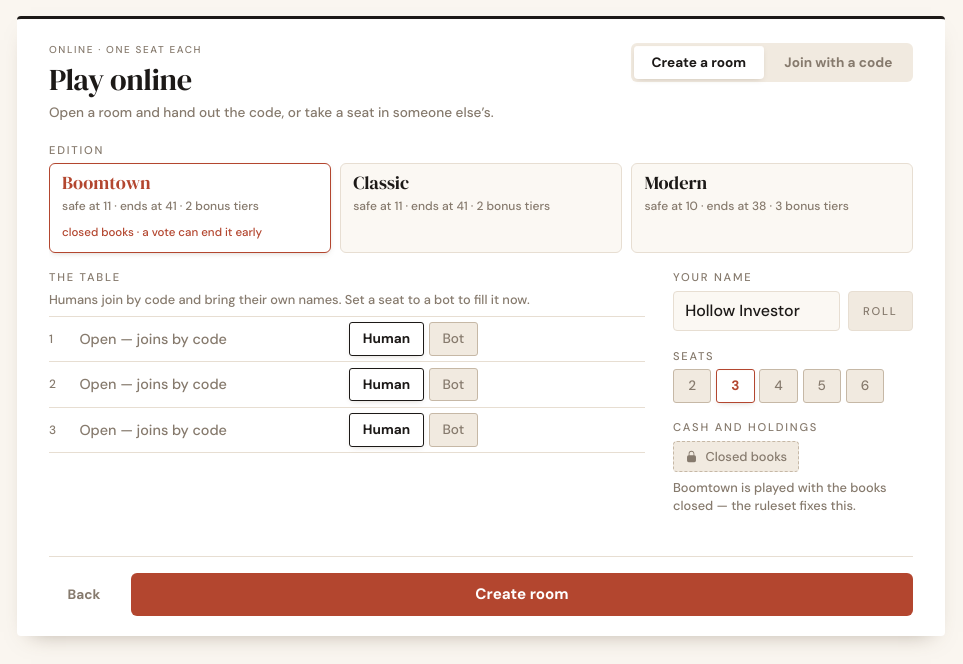
Scenario: CreateJoin › refuses to open an all-bot room, and says why before the button is pressed
Click the 1st radio button labelled "Bot" at (453, 339), box [429,322,478,356]
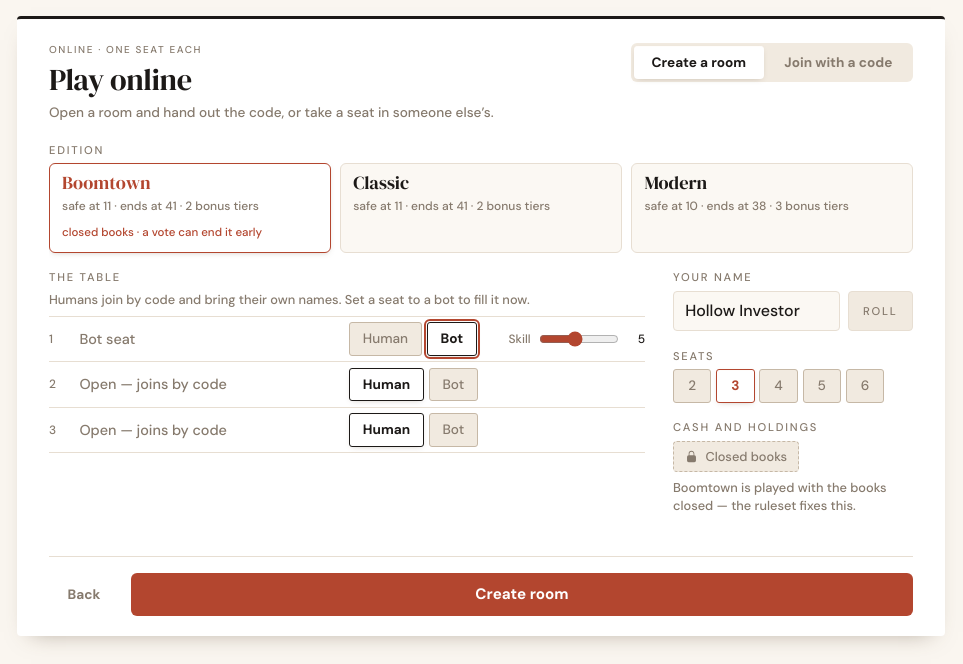
Click the 2nd radio button labelled "Bot" at (453, 384), box [429,368,478,401]
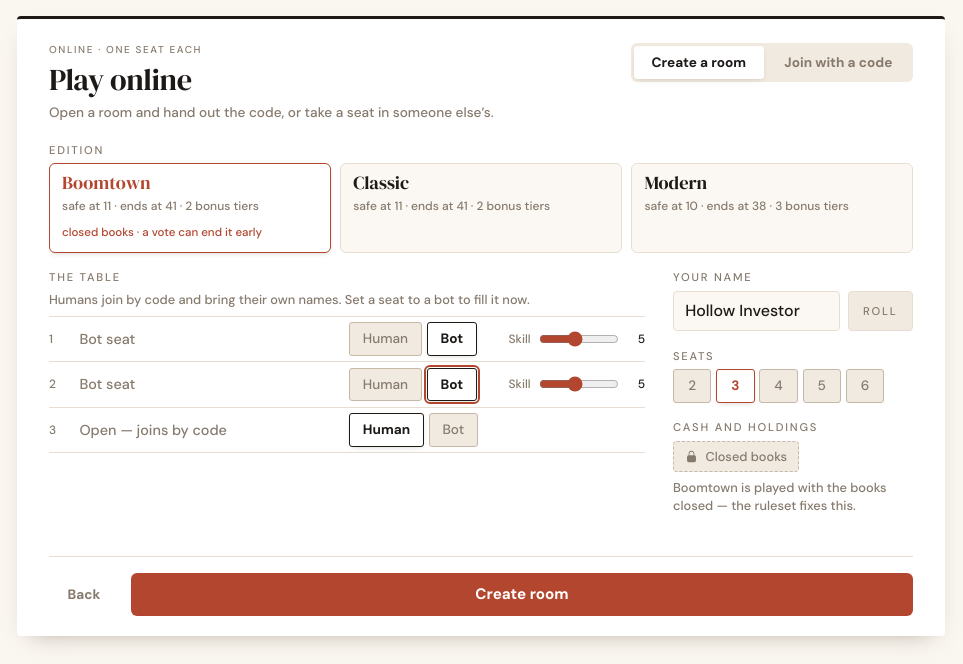
Click the radio button labelled "Bot" in the row of "Open — joins by code" at (453, 430), box [429,413,478,447]
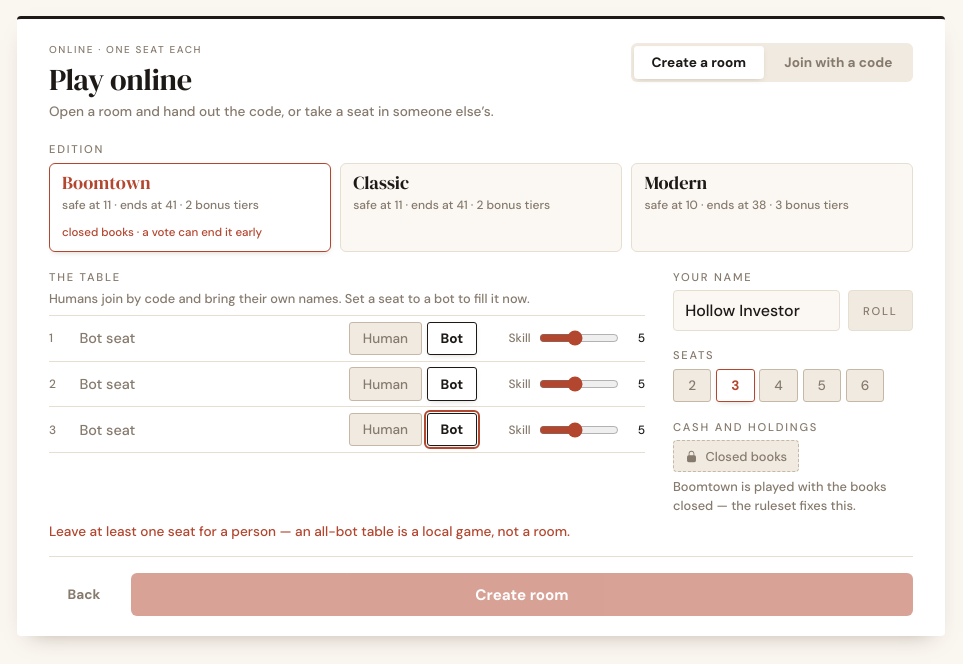
Check: the button "Create room" is disabled, box [131,574,913,616]
Check: the message shows "at least one seat", box [49,524,570,540]
Click the 2nd radio button labelled "Human" at (385, 384), box [349,367,422,401]
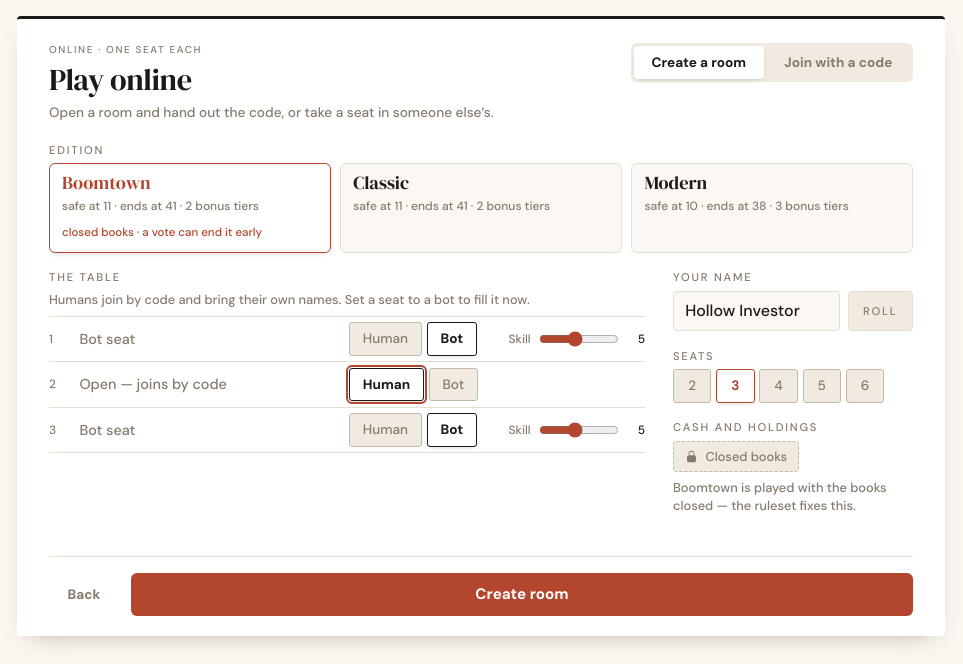
Check: the button "Create room" is enabled, box [131,573,913,616]
